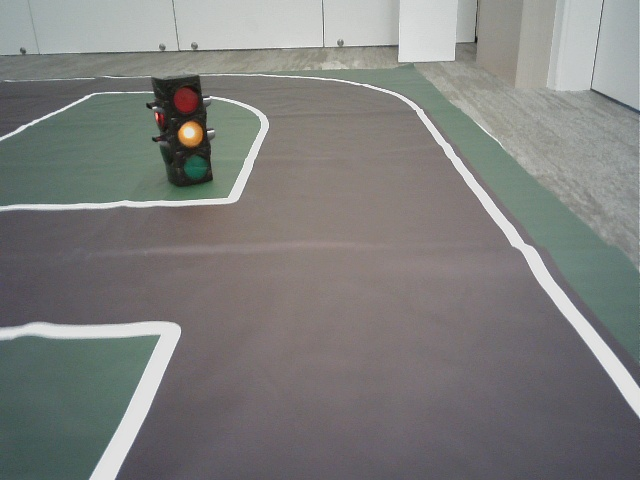yellow: (169, 82, 209, 178)
